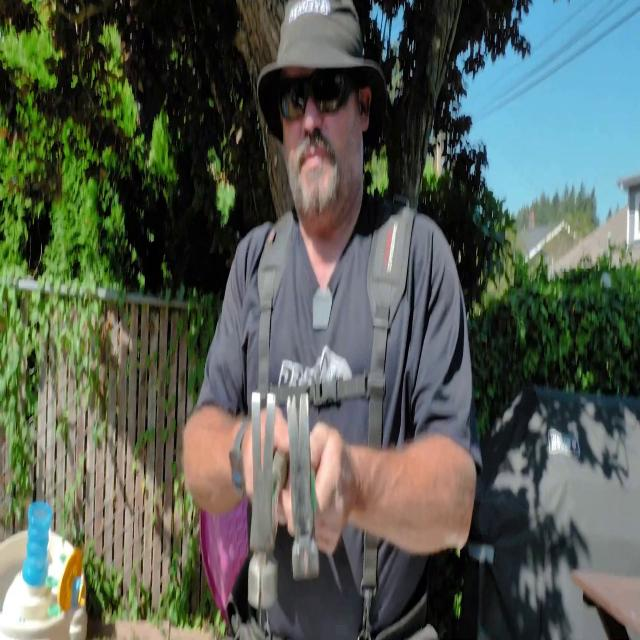hammer: (247, 390, 288, 612)
